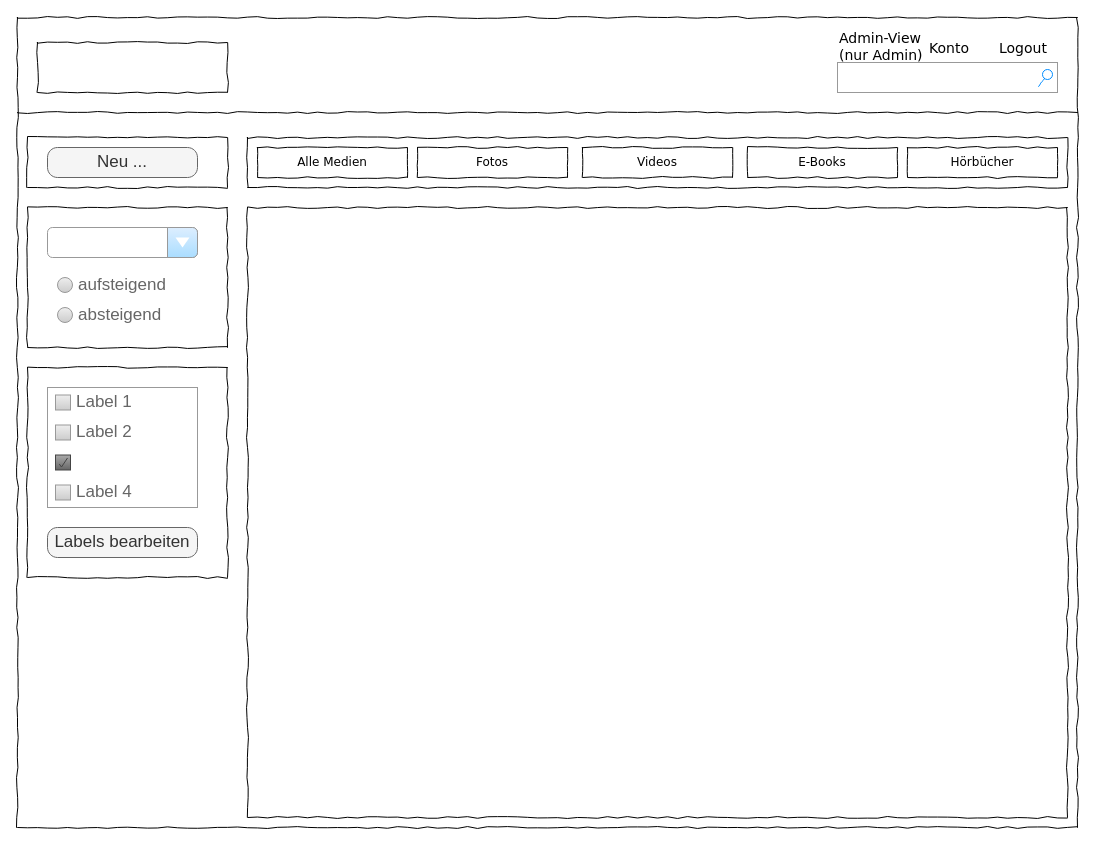
Some shapes in this 1095 by 845 pixel diagram are drawn without their labels. Each missing label, with the centre of its shape:
"Anzeigebereich" goes at (657,512).
"Label 3" goes at (62,462).
"LOGO" goes at (132,67).
"Search" goes at (947,77).
"Sortierung ..." goes at (122,242).
